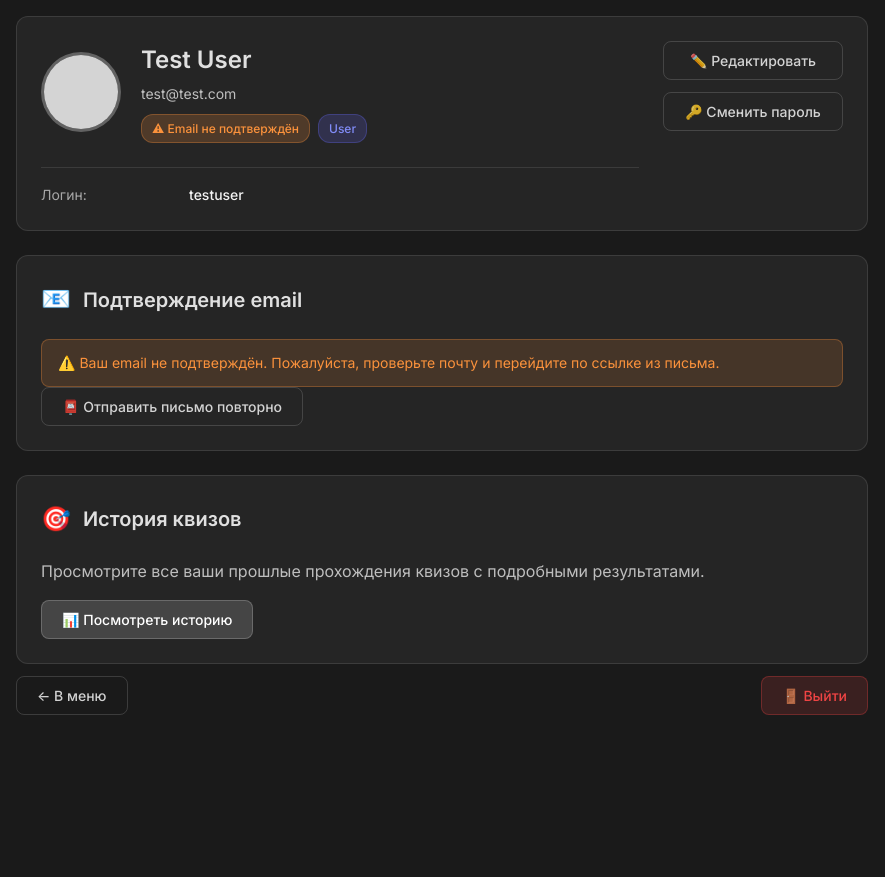
Test: Profile › validates password confirmation match
The image size is (885, 877).
Expected: the heading "Test User" is shown, [141,45,251,74]
// Open password form
Click the button "🔑 Сменить пароль": (753, 112) [663,92,843,131]
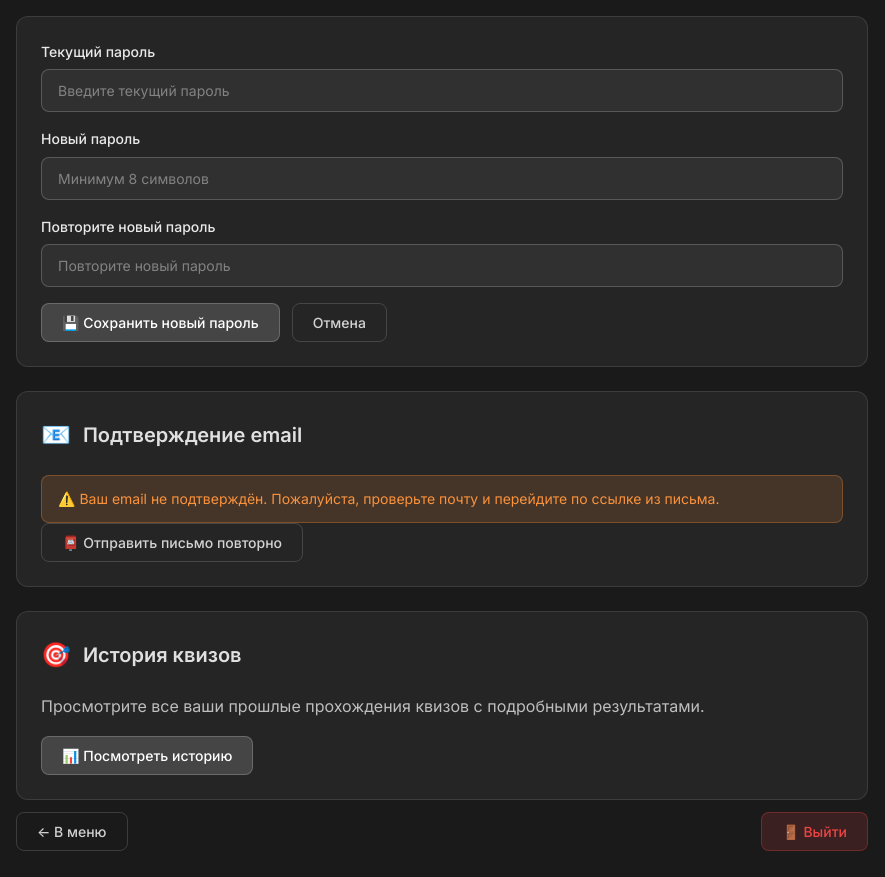
Result: the password field with placeholder "Введите текущий пароль" is shown
In the password field with placeholder "Введите текущий пароль": (442, 91) [41,69,843,112], type "oldpassword"
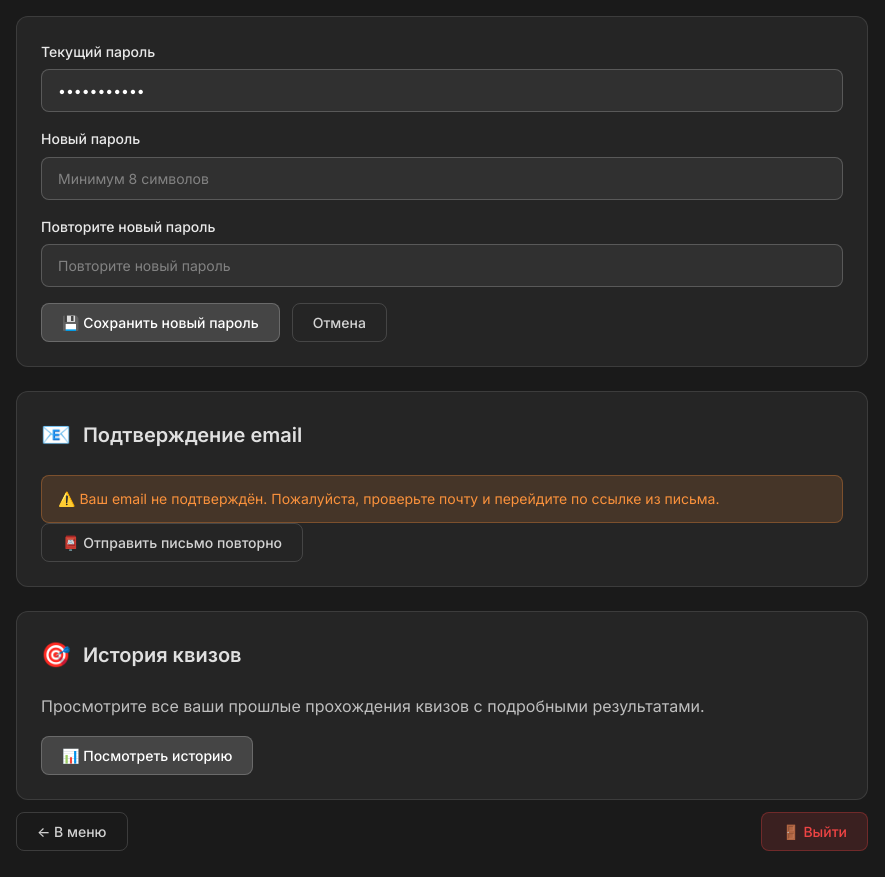
In the password field with placeholder "Минимум 8 символов": (442, 178) [41,157,843,200], type "newpassword123"
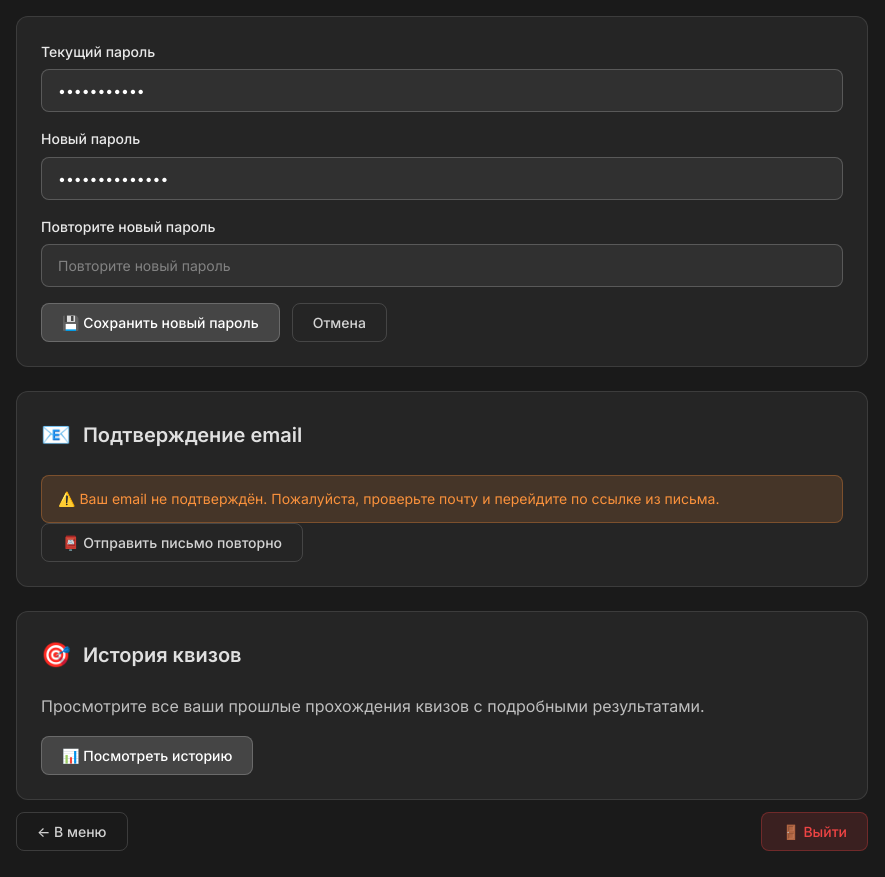
In the password field with placeholder "Повторите новый пароль": (442, 266) [41,244,843,287], type "differentpassword"
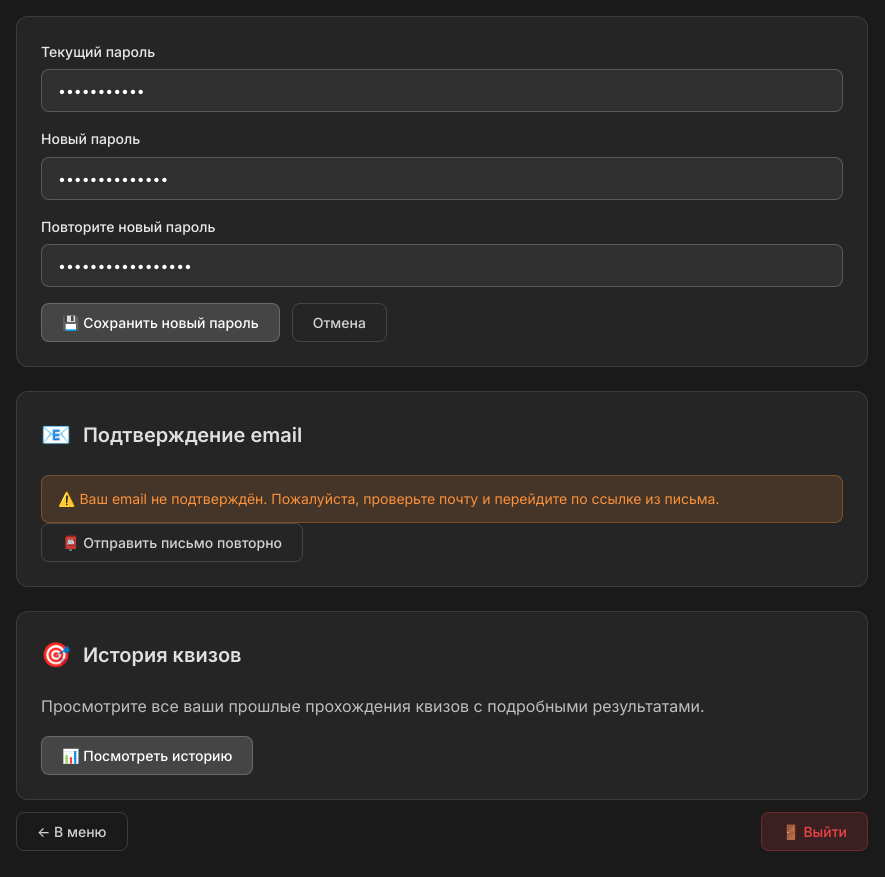
Click the button "💾 Сохранить новый пароль": (160, 323) [41,303,280,342]
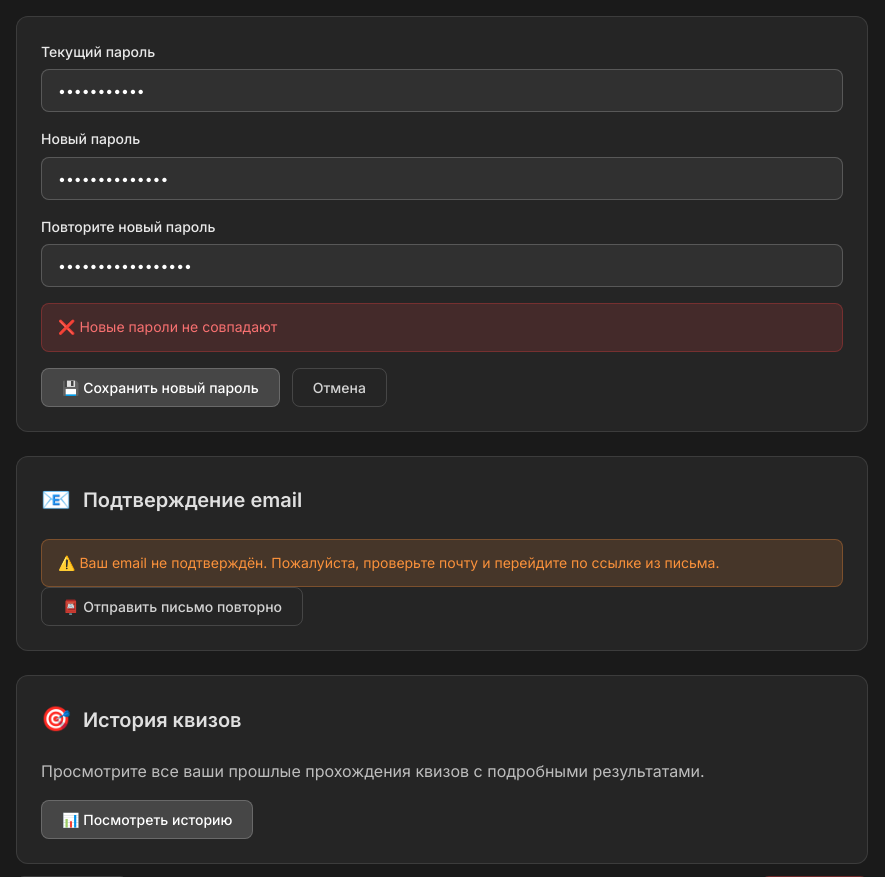
Result: the text "❌ Новые пароли не совпадают" is shown at [41,303,843,352]
